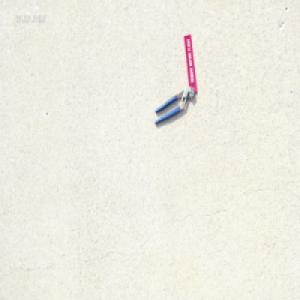Label: (183, 33, 198, 93)
Pliers: (154, 85, 195, 125)
